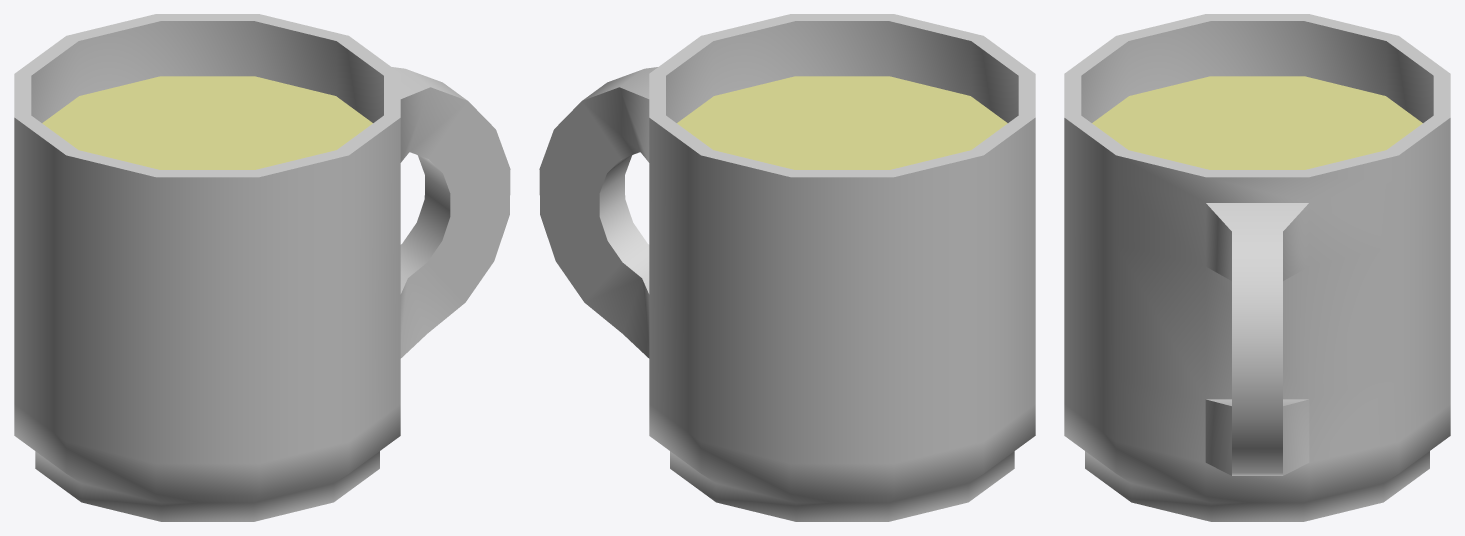
Rendered from Kubek (1).fbx.
The picture shows the model from 3 angles, left to right: view 1: azimuth 30°, elevation 25°; view 2: azimuth 150°, elevation 25°; view 3: azimuth 270°, elevation 25°; orthographic projection.
Visible parts, largest first — view 1: Circle; view 2: Circle; view 3: Circle.
Boxes of the visible parts, x1,y1,x2,y2 form: Circle: [14, 14, 510, 521]; Circle: [539, 14, 1035, 521]; Circle: [1064, 14, 1450, 521].
Size of the model in its own units: 30.12 by 22.24 by 22.03.
